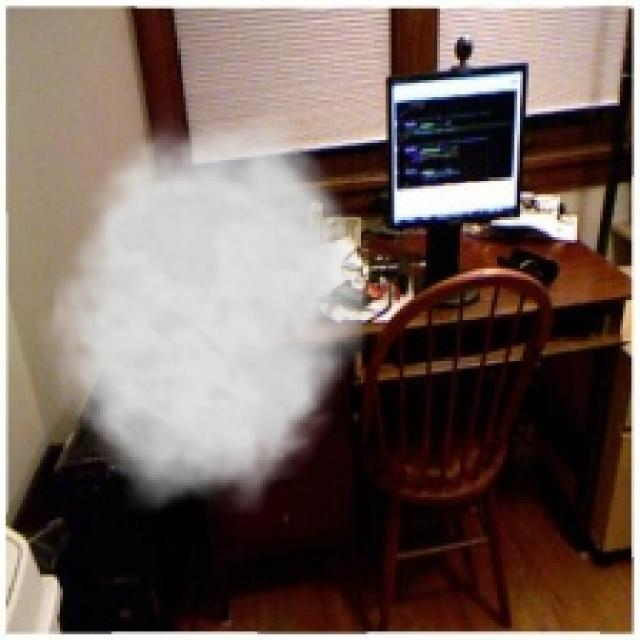smoke: (34, 100, 380, 514)
